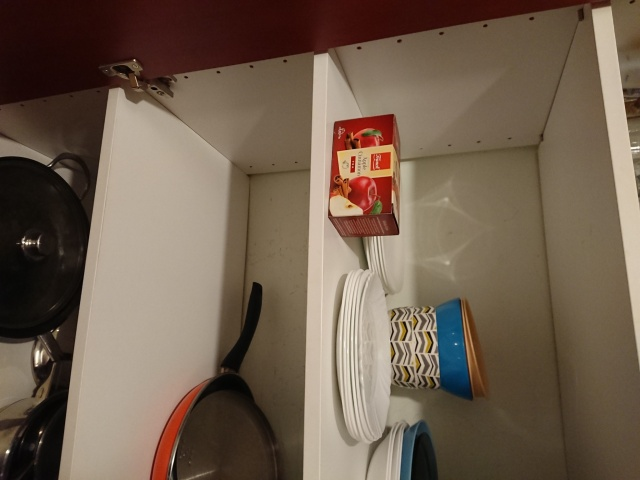Franck Apple Cinnamon Tea 60g: (325, 111, 403, 240)
